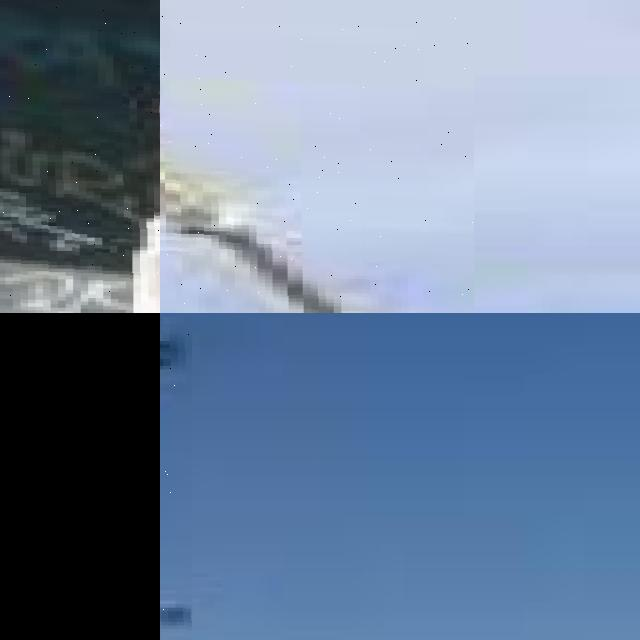street light: (160, 0, 474, 313), (0, 0, 160, 313)
